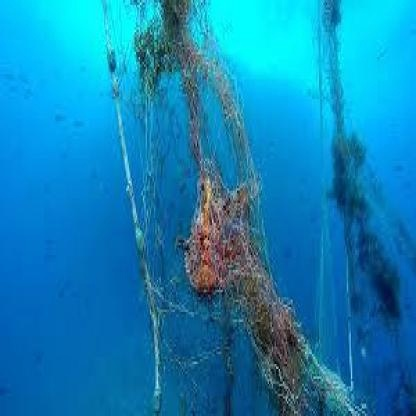net: (105, 2, 323, 416)
